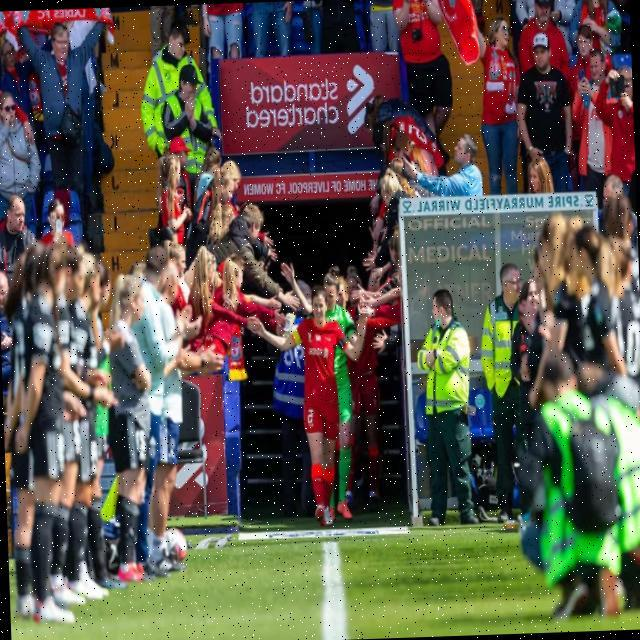Standard Chartered: (244, 63, 379, 140), (308, 347, 328, 360), (325, 336, 330, 342)
